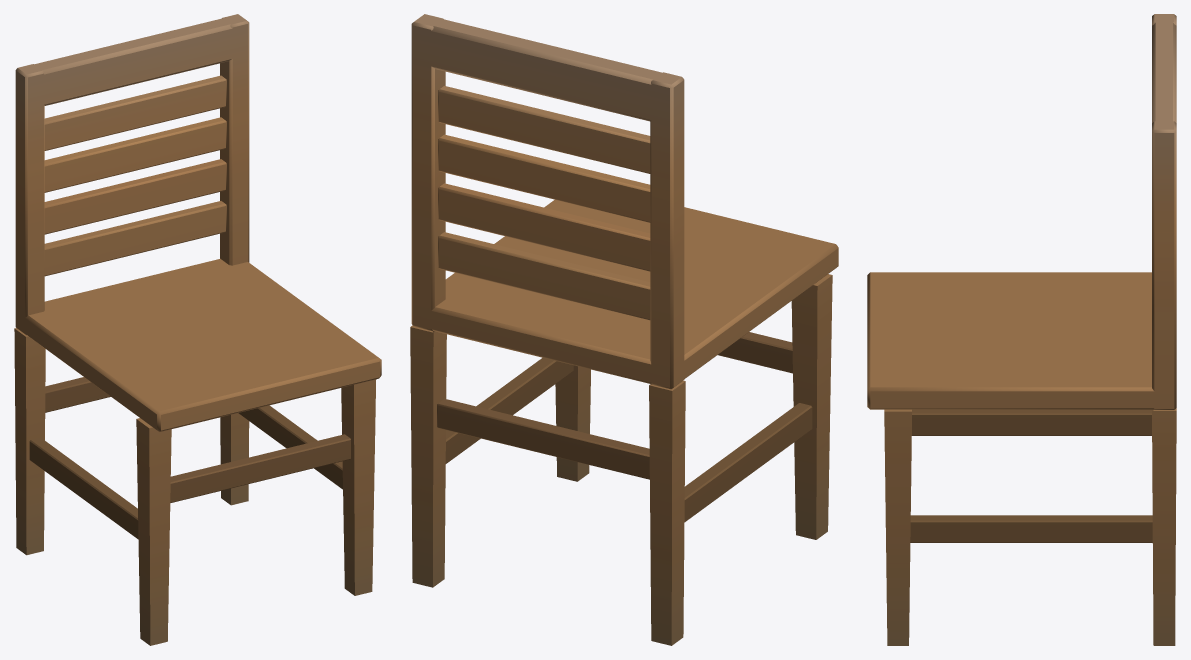
File: dining_chair.glb
3 renders of one model, left to right at view 1: azimuth 30°, elevation 25°; view 2: azimuth 150°, elevation 25°; view 3: azimuth 270°, elevation 25°, orthographic. The views are drawn at different scales.
Parts seen in each view (by area): view 1: SM_DiningChair_Wood_01; view 2: SM_DiningChair_Wood_01; view 3: SM_DiningChair_Wood_01.
Part boxes in pixels (x1,y1,x2,y2): SM_DiningChair_Wood_01: (14, 14, 381, 645); SM_DiningChair_Wood_01: (410, 14, 838, 645); SM_DiningChair_Wood_01: (867, 14, 1176, 645).
Size of the model in its own units: 0.455 by 0.92 by 0.5.
Materials: 1 (1 with a texture image).
